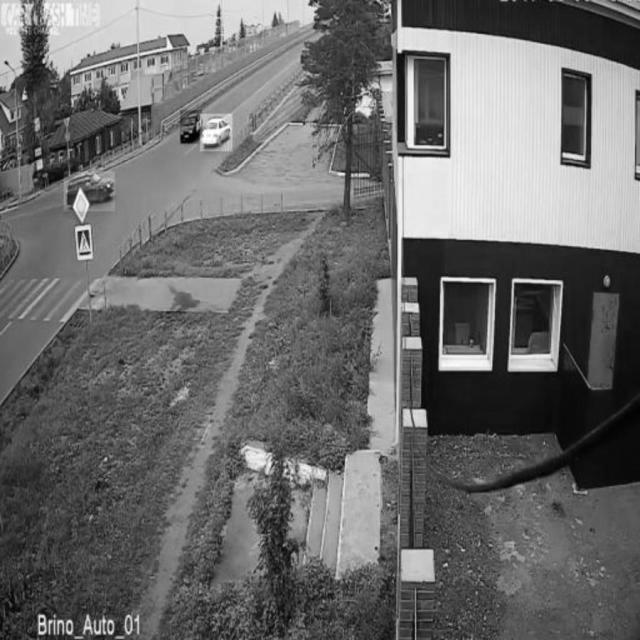vehicle: (64, 172, 115, 212), (200, 115, 232, 152), (181, 110, 203, 144)
